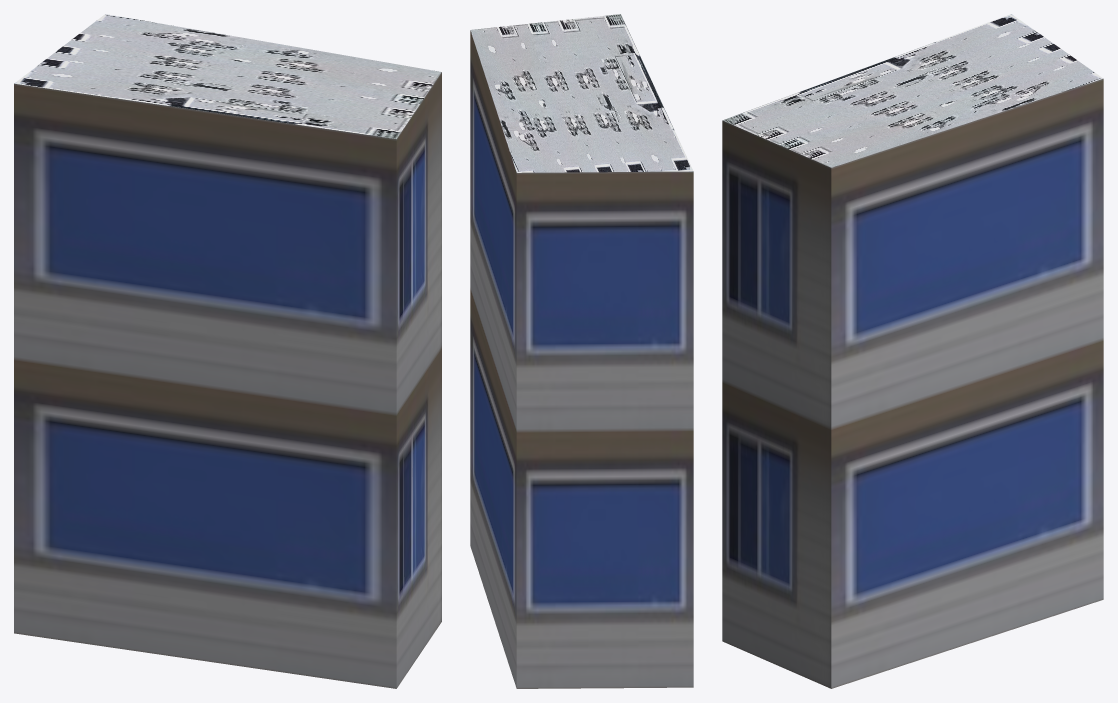
The model's file is ResTex__4145.fbx.
The picture shows the model from 3 angles, left to right: view 1: azimuth 30°, elevation 25°; view 2: azimuth 150°, elevation 25°; view 3: azimuth 270°, elevation 25°; orthographic projection. The views are drawn at different scales.
Parts seen in each view (by area): view 1: CityEngineMaterial_23_m, CityEngineMaterial_m; view 2: CityEngineMaterial_23_m, CityEngineMaterial_m; view 3: CityEngineMaterial_23_m, CityEngineMaterial_m.
Part boxes in pixels (bbox=[...]): CityEngineMaterial_23_m: bbox=[14, 72, 441, 688]; CityEngineMaterial_m: bbox=[14, 14, 441, 138]; CityEngineMaterial_23_m: bbox=[470, 30, 693, 688]; CityEngineMaterial_m: bbox=[470, 14, 693, 172]; CityEngineMaterial_23_m: bbox=[722, 78, 1103, 688]; CityEngineMaterial_m: bbox=[723, 14, 1102, 167].
Bounding box in the file's own units: 3.8 × 6 × 3.98.
2 materials, 2 textured.
